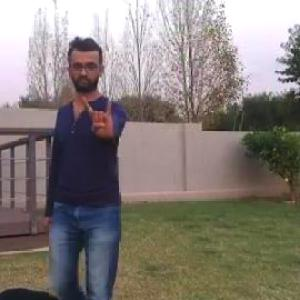takeoff-hand: (77, 83, 123, 140)
